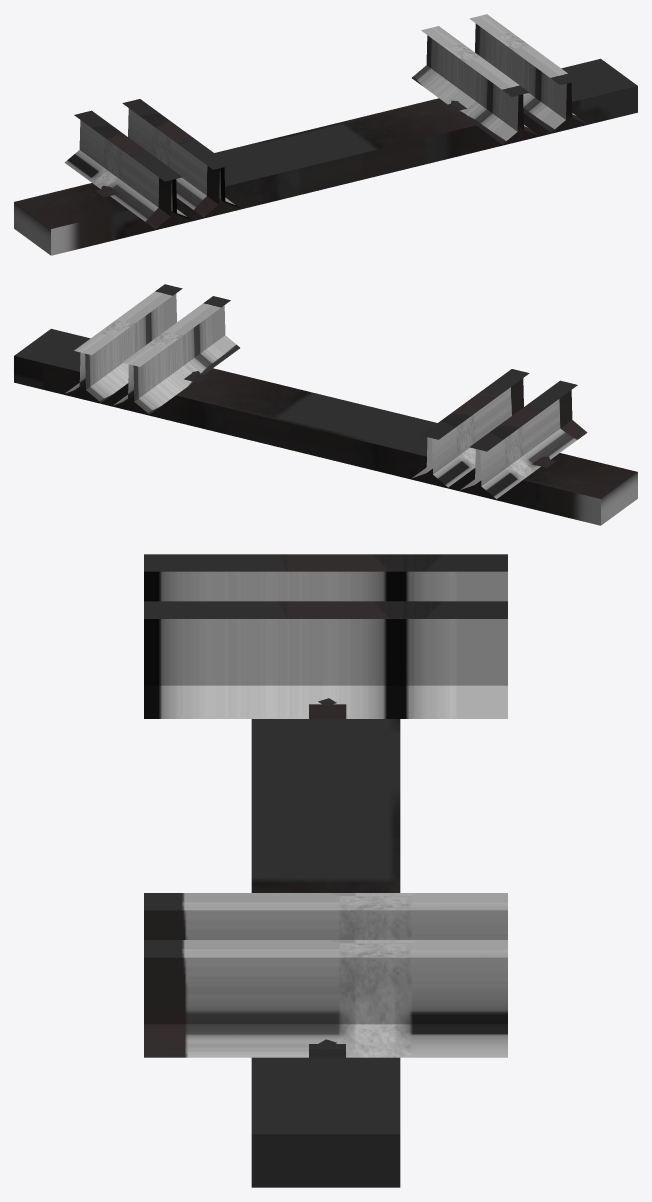
File: rail1067_1435dual.obj
The picture shows the model from 3 angles, top to bottom: view 1: azimuth 30°, elevation 25°; view 2: azimuth 150°, elevation 25°; view 3: azimuth 270°, elevation 25°; orthographic projection. The views are drawn at different scales.
Visible parts, largest first — view 1: obj1; view 2: obj1; view 3: obj1.
Boxes of the visible parts, box(x1,y1,x2,y2) form: obj1: box(14, 14, 637, 255); obj1: box(14, 284, 637, 525); obj1: box(144, 554, 507, 1187).
Bounding box in the file's own units: 2.23 × 0.2643 × 0.6.
Materials: 1 (1 with a texture image).
